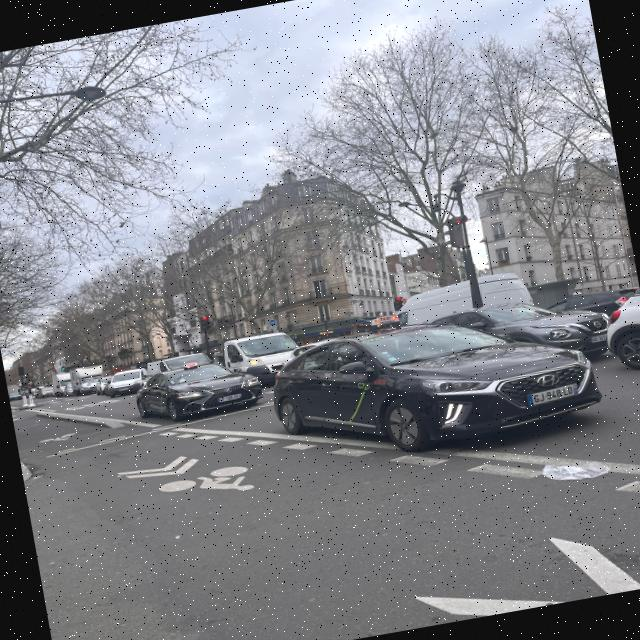EU: (527, 382, 580, 406)
France: (526, 393, 534, 405)
